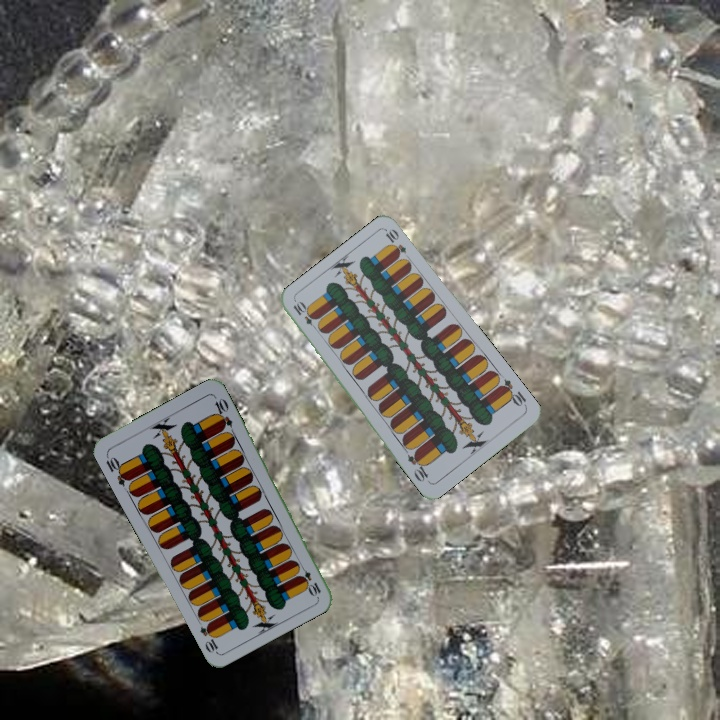E10: (495, 375, 529, 410), (102, 451, 133, 488), (289, 298, 321, 333), (295, 560, 323, 598)
